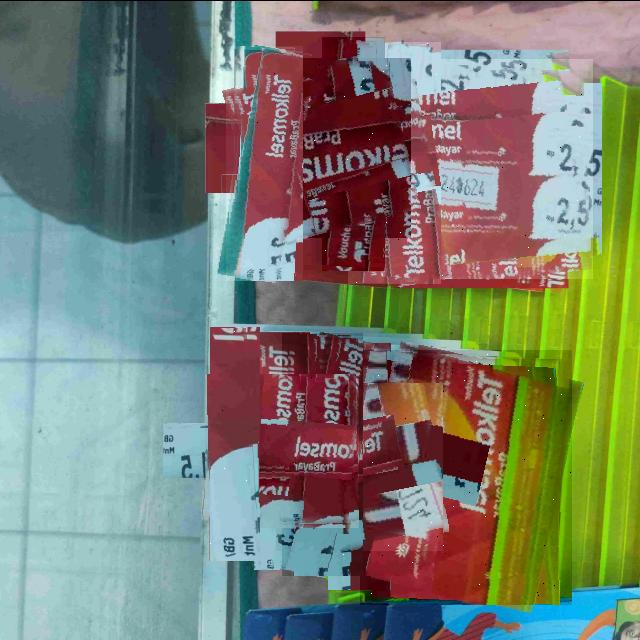Telkomsel: (360, 349, 572, 604), (373, 58, 593, 278), (231, 57, 411, 237), (276, 382, 443, 550), (205, 373, 359, 527), (348, 41, 441, 283), (282, 332, 363, 575), (226, 45, 303, 280), (322, 36, 385, 270), (210, 326, 260, 560)
